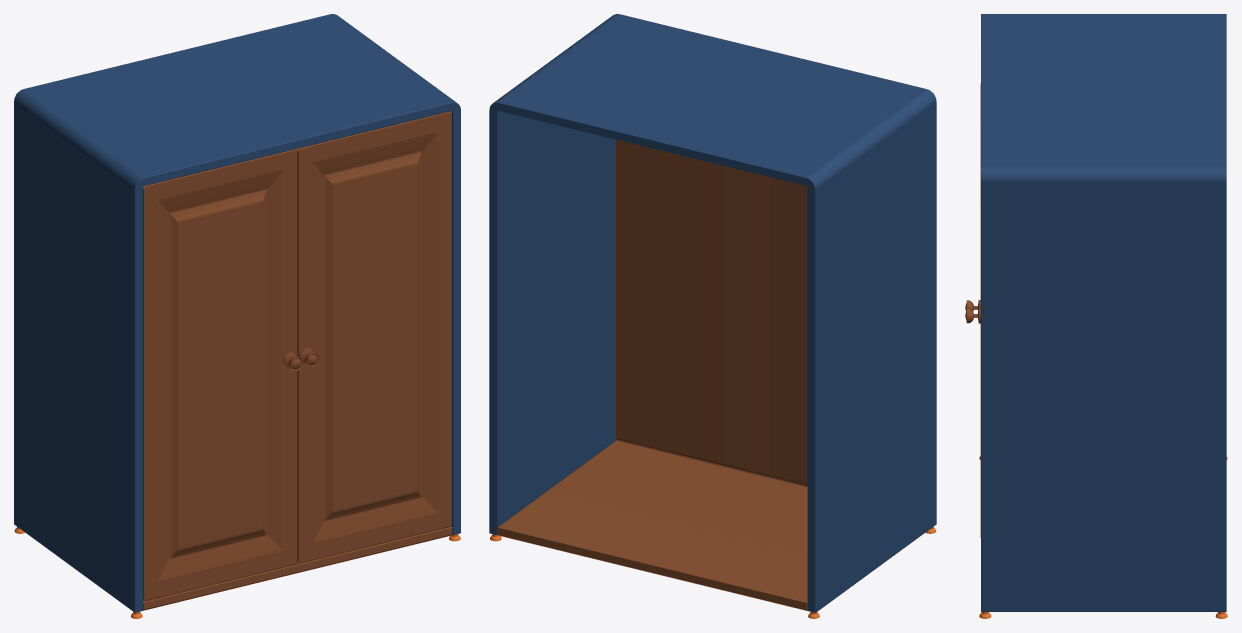
File: cupboard.fbx
3 renders of one model, left to right at view 1: azimuth 30°, elevation 25°; view 2: azimuth 150°, elevation 25°; view 3: azimuth 270°, elevation 25°, orthographic.
Visible parts, largest first — view 1: cupboard; view 2: cupboard; view 3: cupboard.
Part boxes in pixels (x1,y1,x2,y2): cupboard: [14, 14, 460, 618]; cupboard: [489, 14, 936, 618]; cupboard: [965, 14, 1227, 618].
Bounding box in the file's own units: 2.12 × 2.7 × 1.44.
